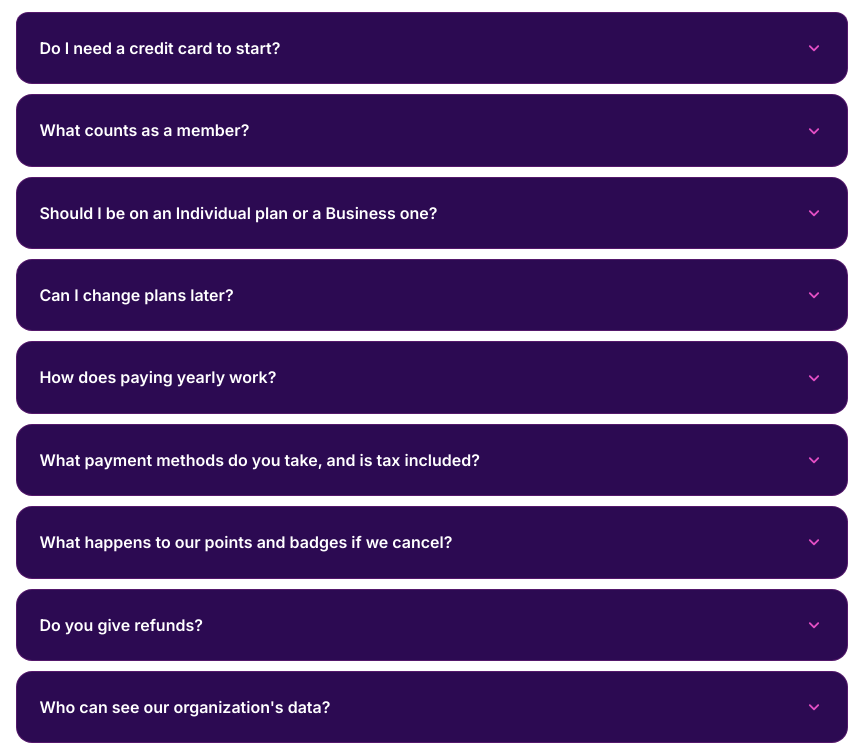
Test: the answers › opens the one that was asked
Click the button "Do I need a credit card to start?": (160, 48) [17,13,847,83]
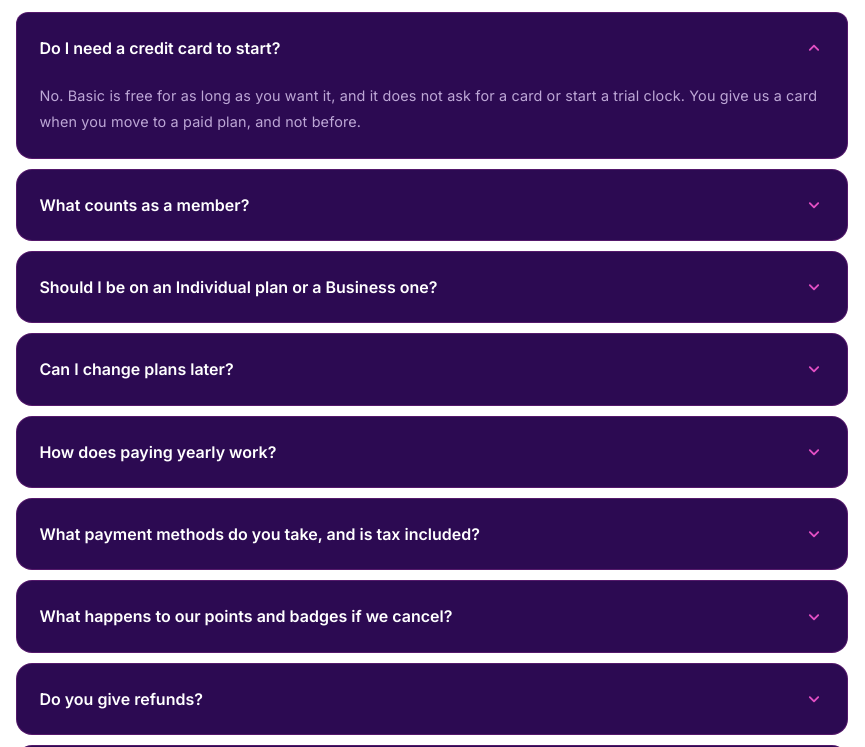
Expected: the button "Do I need a credit card to start?" is expanded, [17,13,847,83]
Expected: the text "Basic is free for as long as you want it" is shown, [39,87,817,130]
